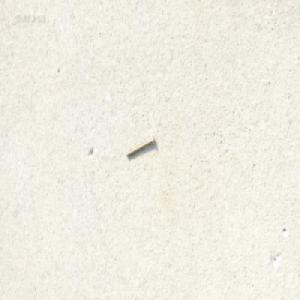Bolt: (125, 134, 154, 157)
